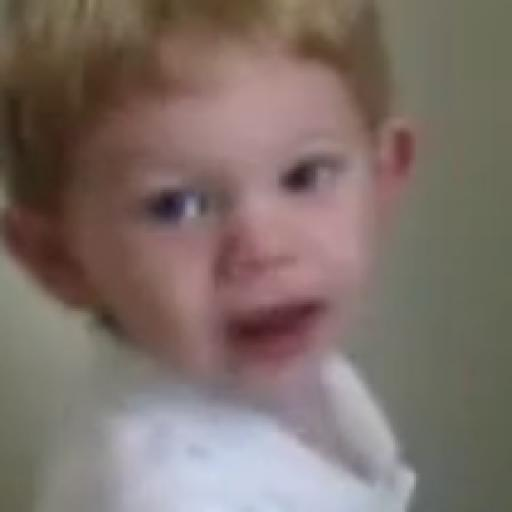Autism: (11, 12, 451, 412)
